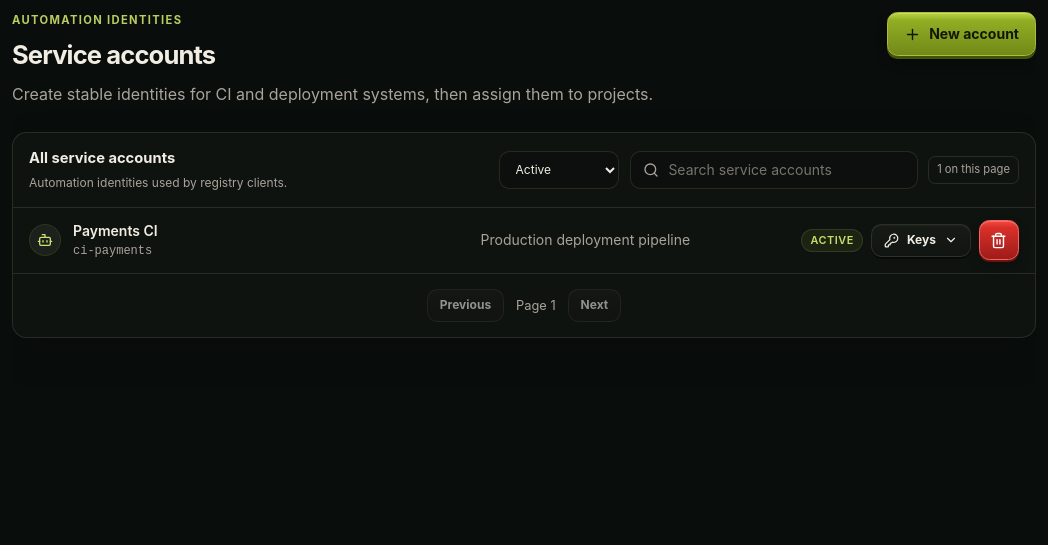
Test: ServiceAccountsPage › shows an empty search state when no service account matches
The image size is (1048, 545).
Type "missing" into the search field named "Search service accounts". click: (774, 170)
box: 630,151 -> 918,189
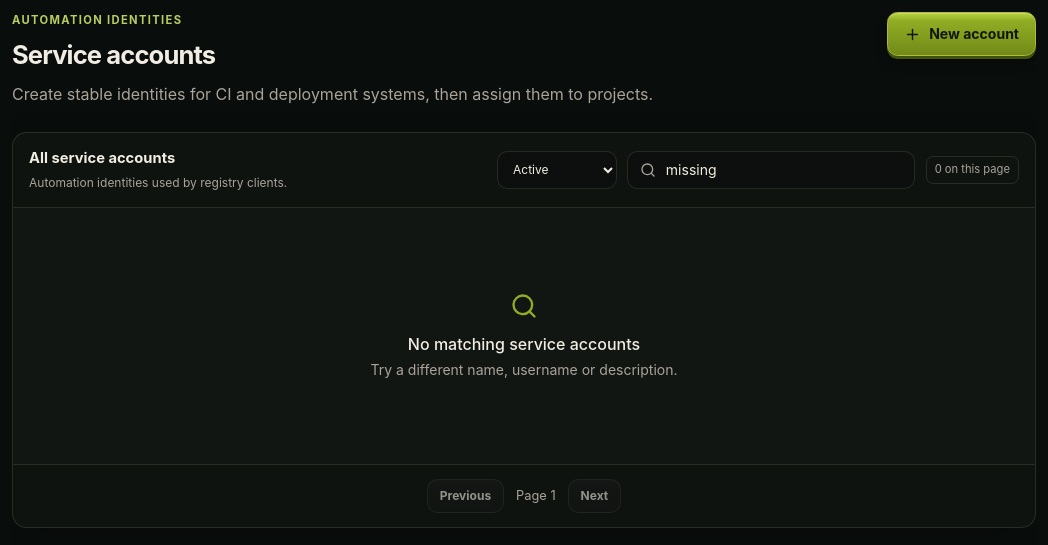
Check: the text "No matching service accounts" is shown, box 408,334 -> 640,354
Check: the text "0 on this page" is shown, box 926,156 -> 1019,184
